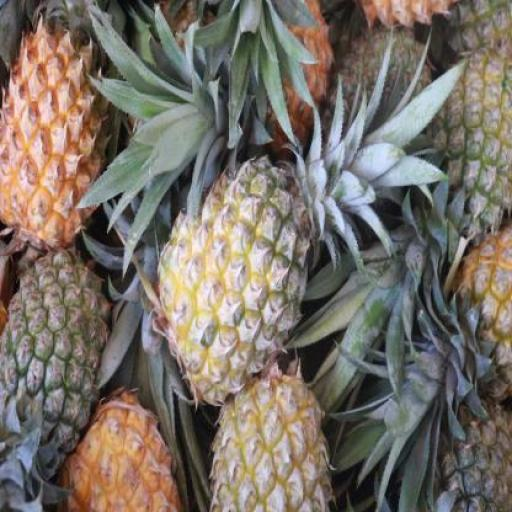------------------------------: (156, 151, 308, 399), (208, 360, 331, 512), (422, 41, 511, 236)
Pineapple - v8 v1: (0, 13, 107, 255), (63, 380, 186, 511)
